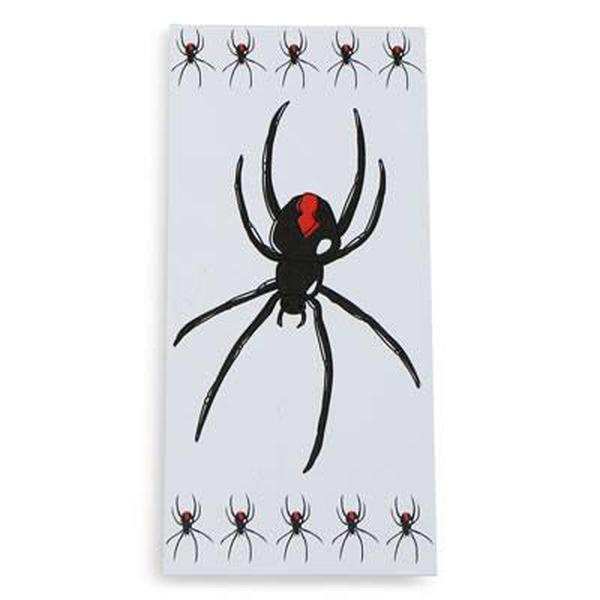Redback_Spider: (173, 101, 422, 470)
